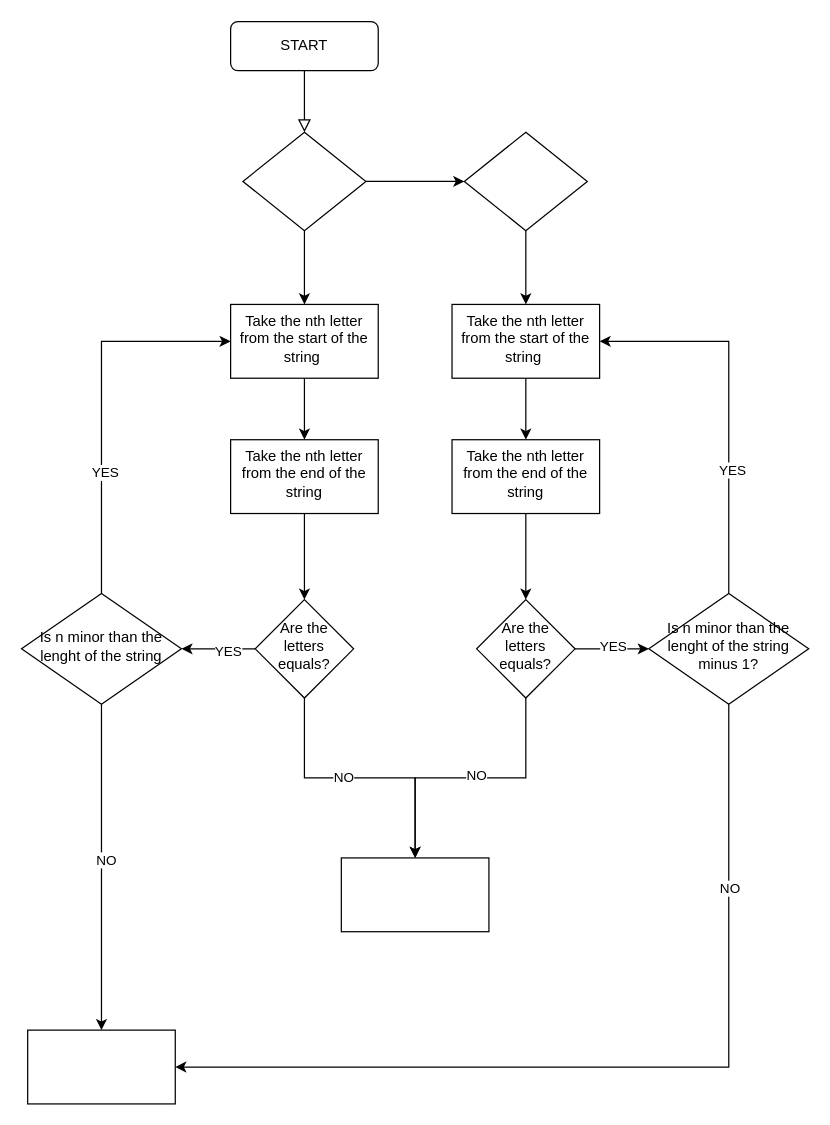
Image size: 830x1125. Some labels were removed from this diagram. The shapes that lost their labels are listed below. From the top down, each one's centre as x and y in pixels, then its label:
At [304,181]: "Is string lentght even?".
At [525,181]: "Is string lentght odd?".
At [414,894]: "Print string is not palindrome".
At [100,1066]: "Print string is palindrome".
